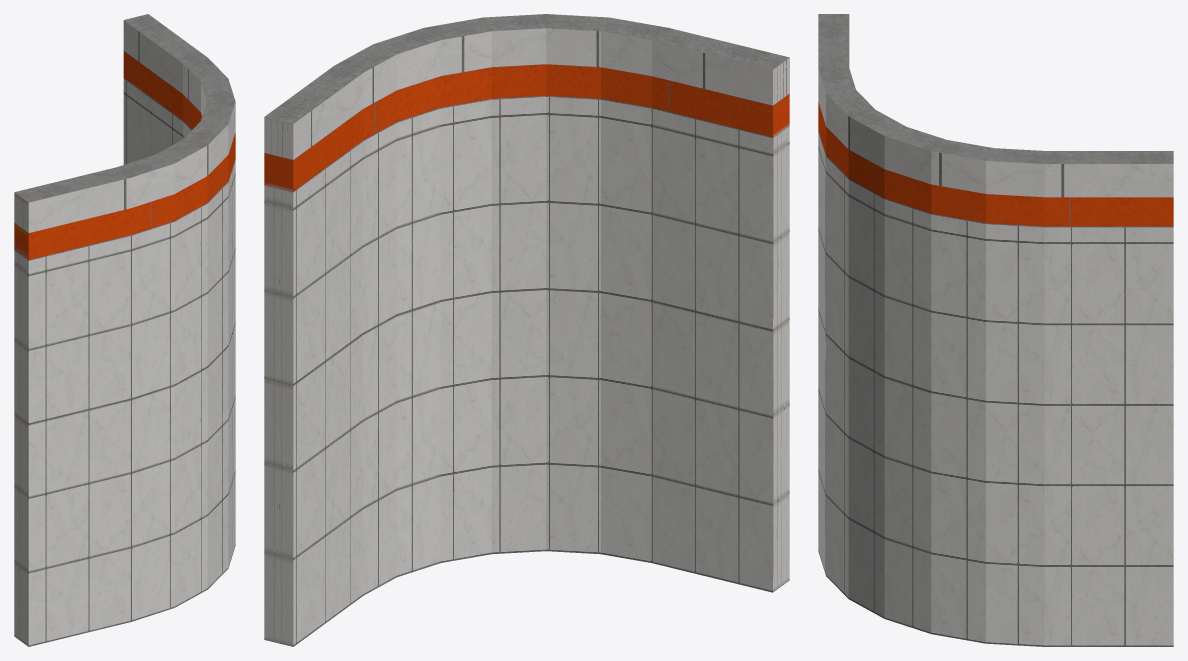
The model's file is WallCurve_1.fbx.
3 renders of one model, left to right at view 1: azimuth 30°, elevation 25°; view 2: azimuth 150°, elevation 25°; view 3: azimuth 270°, elevation 25°, orthographic. The views are drawn at different scales.
Visible parts, largest first — view 1: WallCurve_1; view 2: WallCurve_1; view 3: WallCurve_1.
Boxes of the visible parts, x1=… form: WallCurve_1: x1=14, y1=14, x2=235, y2=646; WallCurve_1: x1=264, y1=14, x2=789, y2=646; WallCurve_1: x1=818, y1=14, x2=1173, y2=646.
Size of the model in its own units: 2 by 3 by 2.
